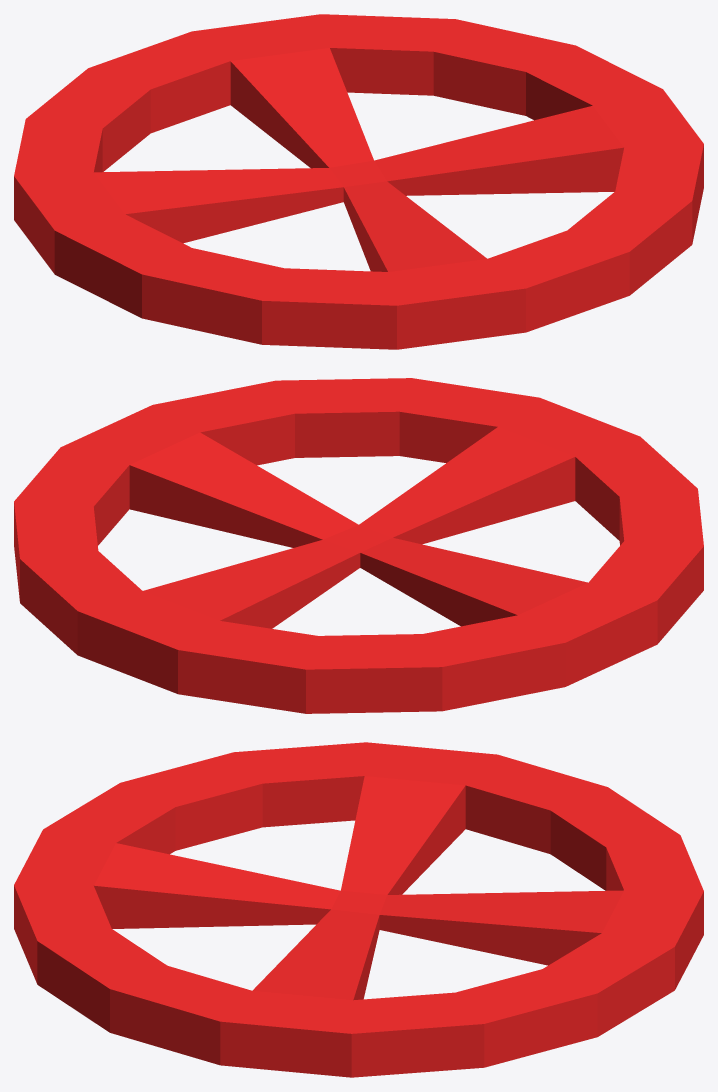
The model's file is Food_CheeseSlice_2.fbx.
3 renders of one model, top to bottom at view 1: azimuth 30°, elevation 25°; view 2: azimuth 150°, elevation 25°; view 3: azimuth 270°, elevation 25°, orthographic.
Parts seen in each view (by area): view 1: Food_CheeseSlice 2; view 2: Food_CheeseSlice 2; view 3: Food_CheeseSlice 2.
Boxes of the visible parts, x1,y1,x2,y2 form: Food_CheeseSlice 2: (14,14,703,349); Food_CheeseSlice 2: (14,378,703,713); Food_CheeseSlice 2: (14,742,703,1077).
Size of the model in its own units: 11.2 by 0.7844 by 11.2.
